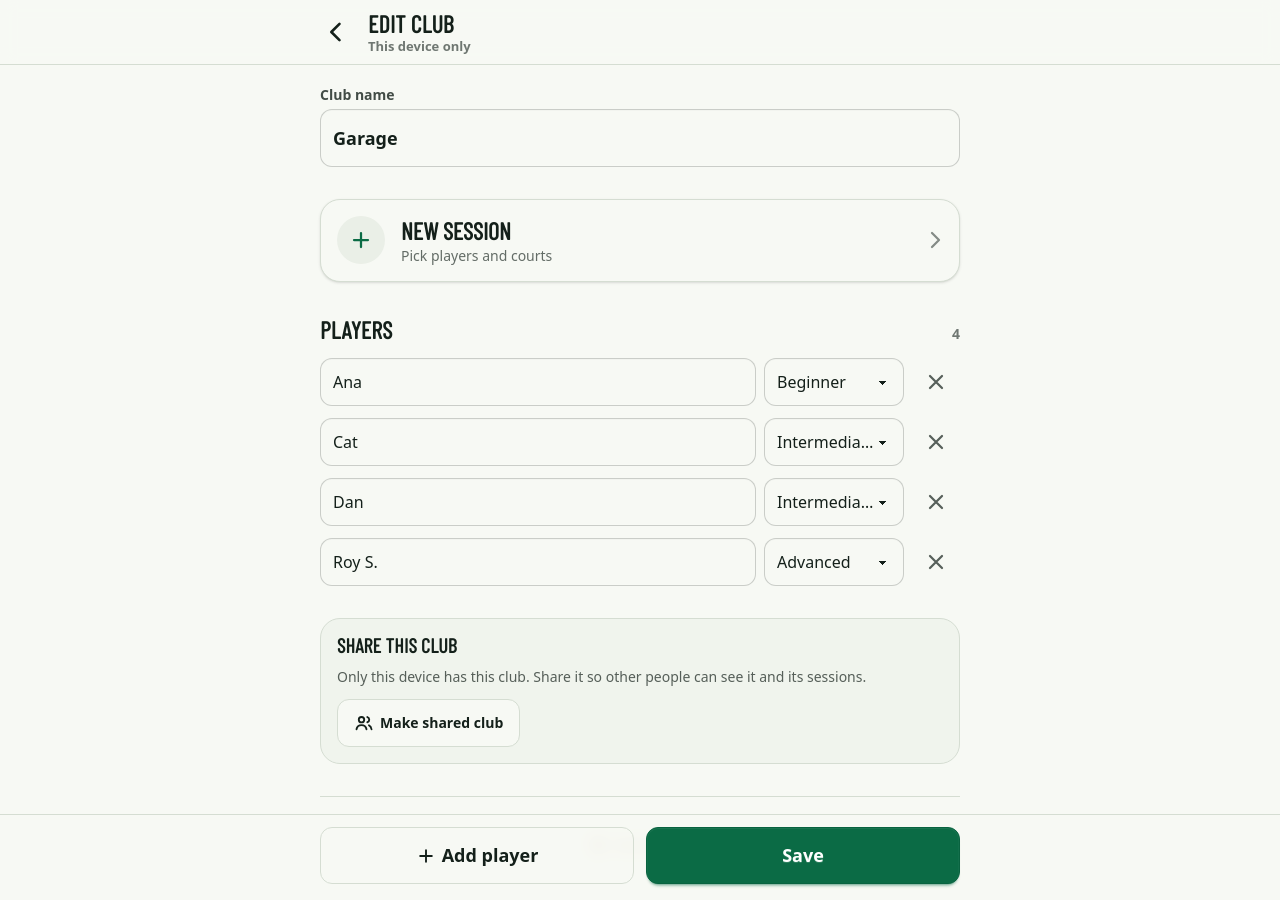
Make shared club › with unsaved changes: turned off until they are saved
Type "!" into the field labelled "Club name". click: coordinates (640, 138)
box: [320, 109, 960, 167]
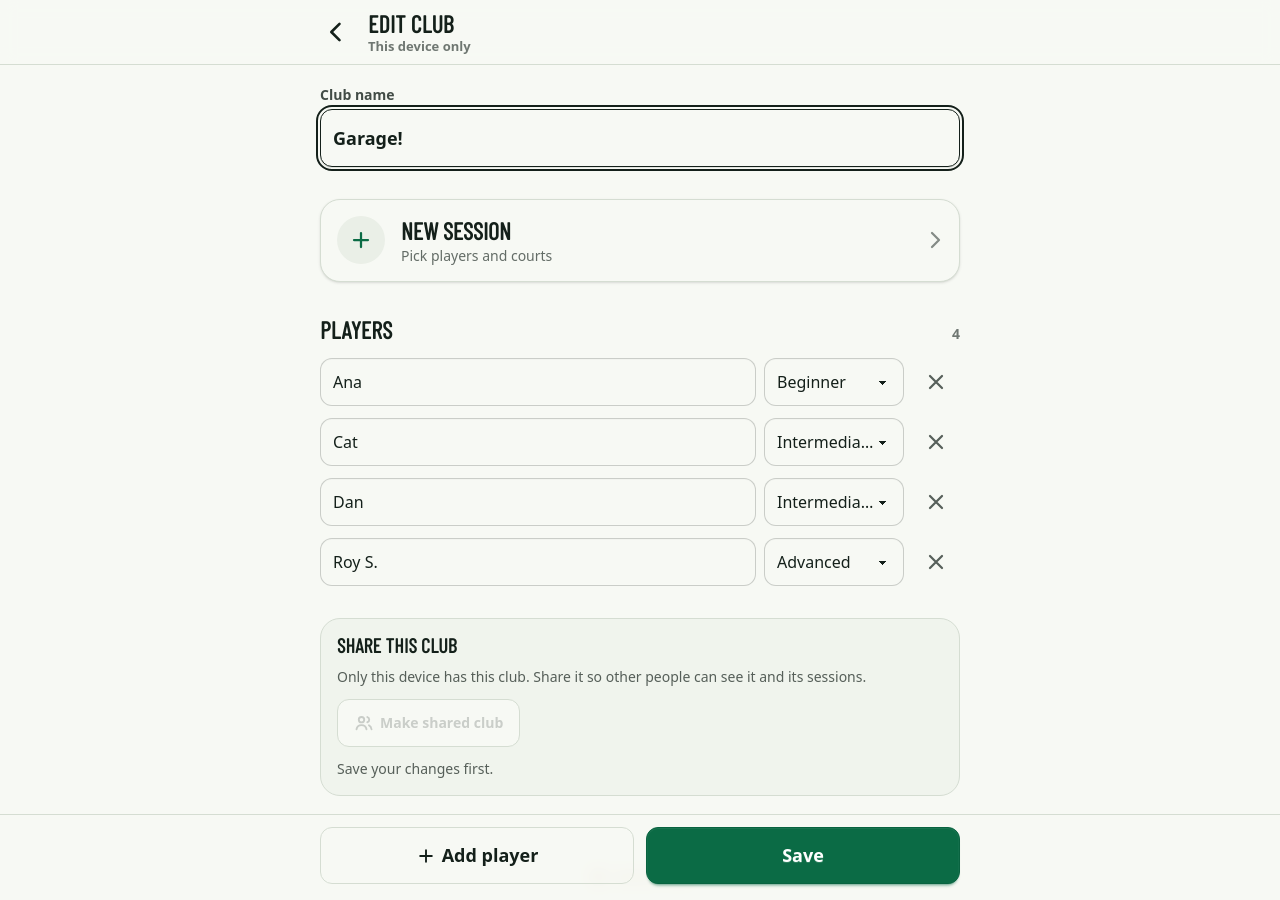
expect the button "Make shared club" is disabled: met, box [337, 699, 520, 747]
expect the text "Save your changes first." is shown: met, box [337, 759, 493, 778]
